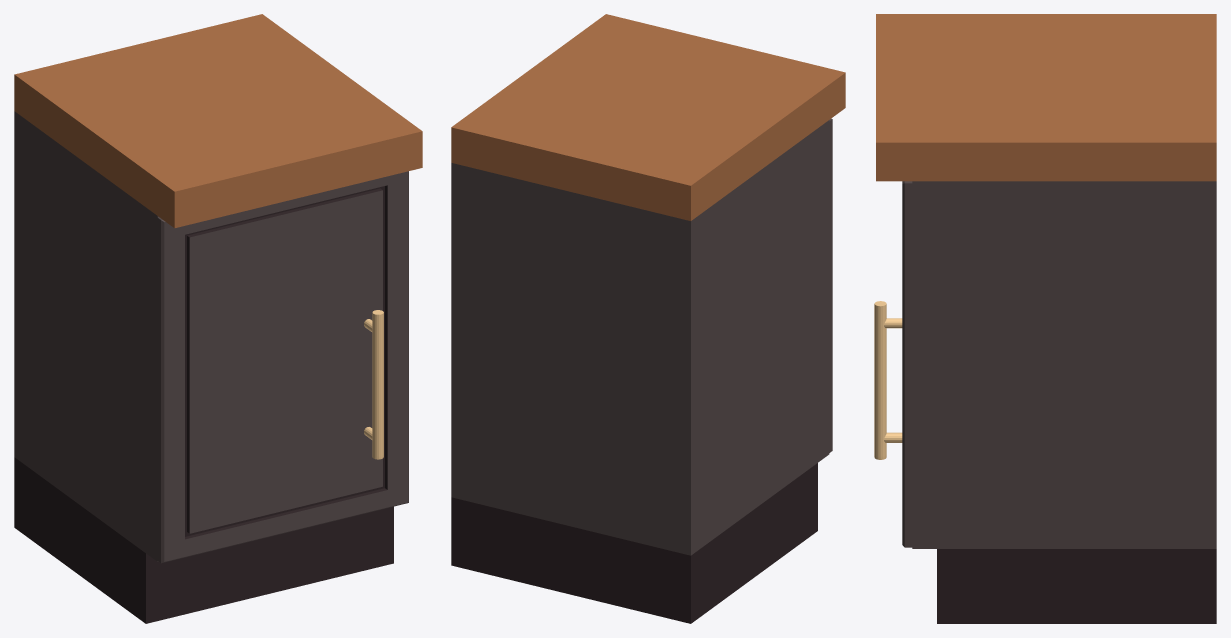
Rendered from Prop_KitchenCabinet_02_F.fbx.
3 renders of one model, left to right at view 1: azimuth 30°, elevation 25°; view 2: azimuth 150°, elevation 25°; view 3: azimuth 270°, elevation 25°, orthographic. The views are drawn at different scales.
Visible parts, largest first — view 1: Prop_KitchenCabinet_02_F; view 2: Prop_KitchenCabinet_02_F; view 3: Prop_KitchenCabinet_02_F.
Boxes of the visible parts, x1,y1,x2,y2 form: Prop_KitchenCabinet_02_F: (14,14,422,623); Prop_KitchenCabinet_02_F: (451,14,845,623); Prop_KitchenCabinet_02_F: (874,14,1216,623).
Bounding box in the file's own units: 60 × 105 × 67.48.
